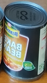beans: (3, 1, 46, 81)
